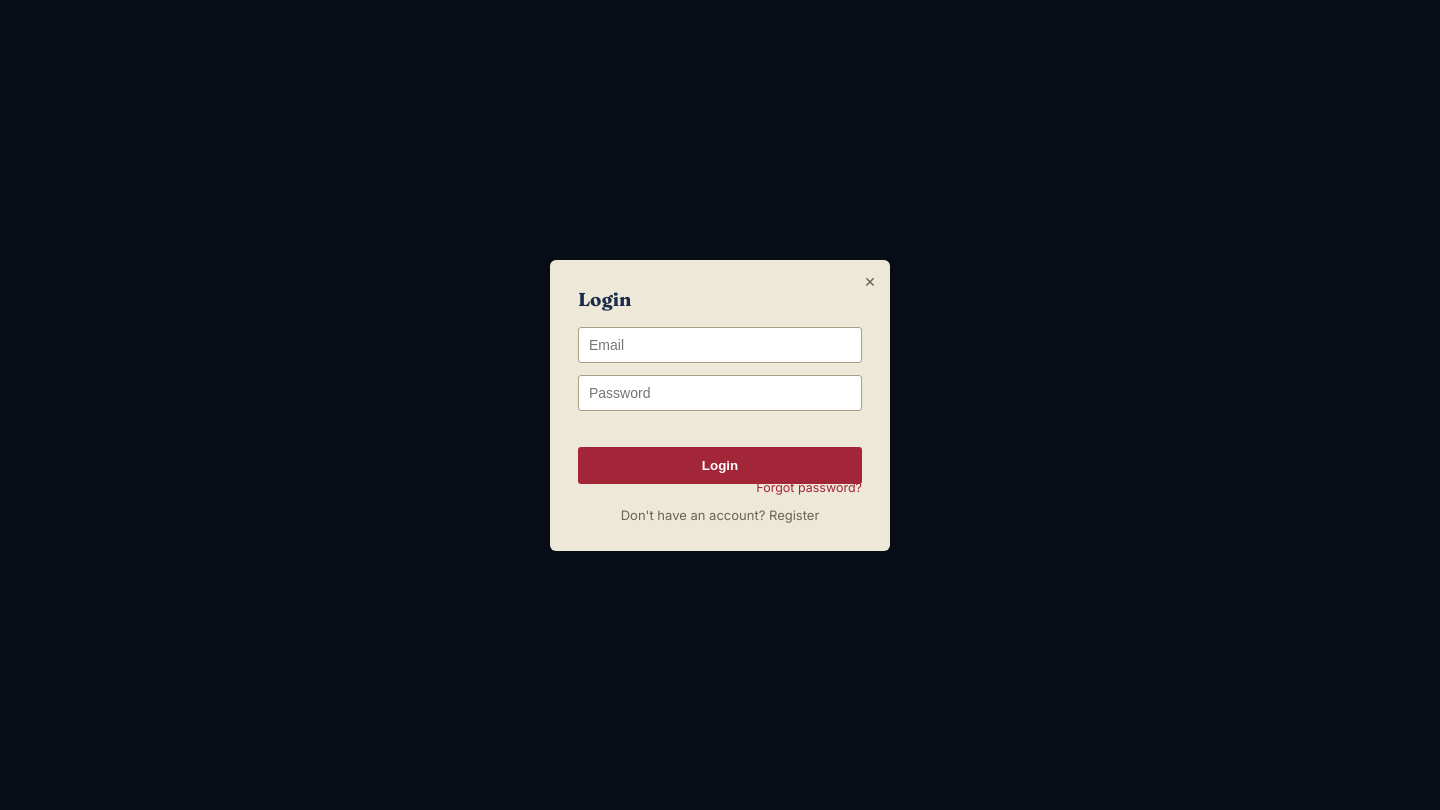
Test: AuthModal › shows a validation message when login fields are empty
Click the button "Login" at x=720, y=465, box top-left (578, 446), bottom-right (862, 484)
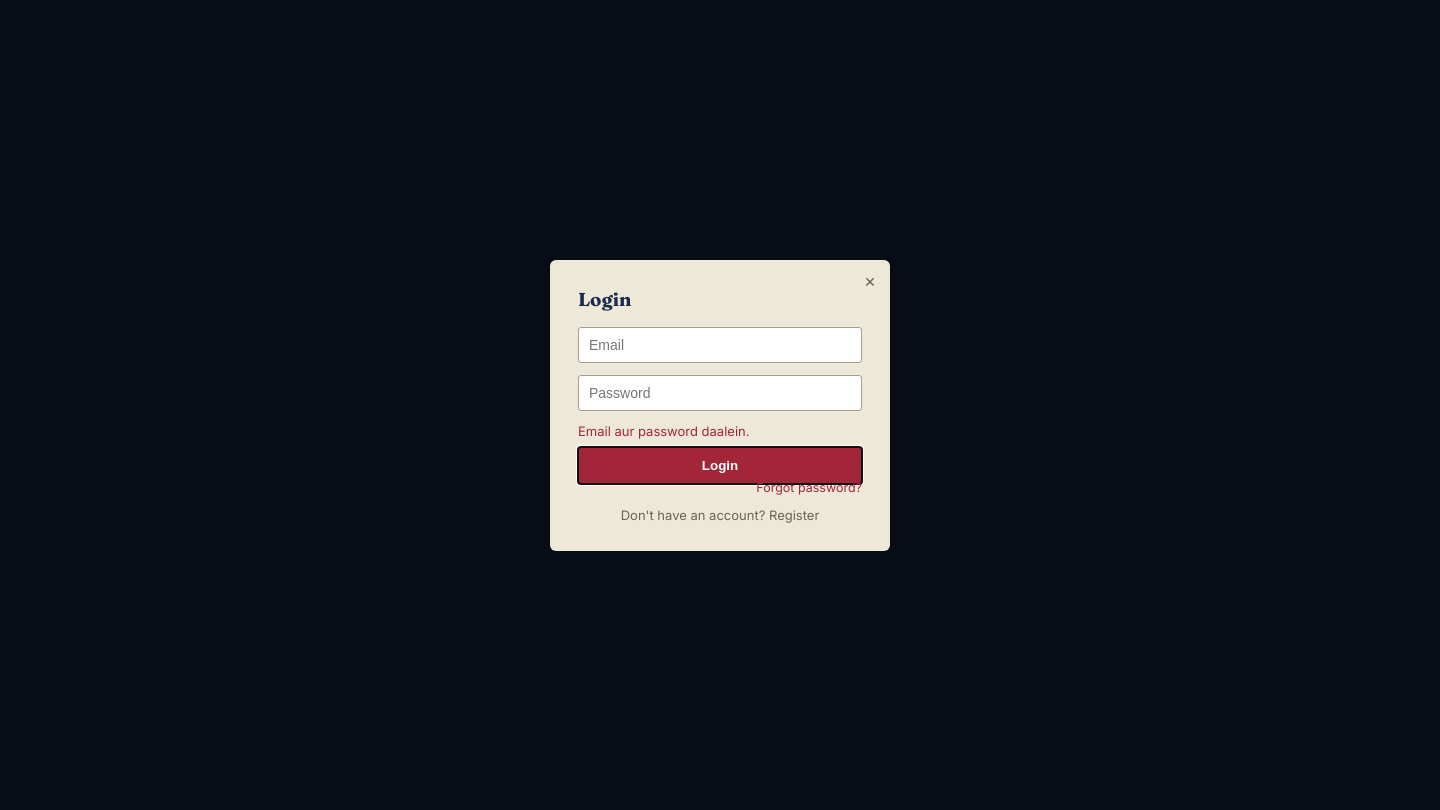
Expected: the text "Email aur password daalein." is shown, top-left (578, 422), bottom-right (750, 438)
